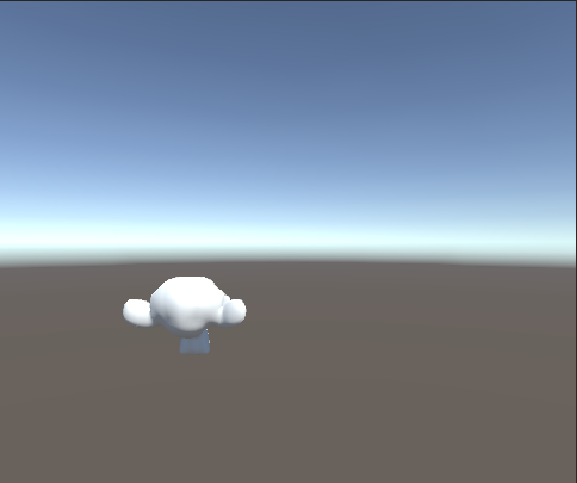monkey: (120, 275, 249, 356)
